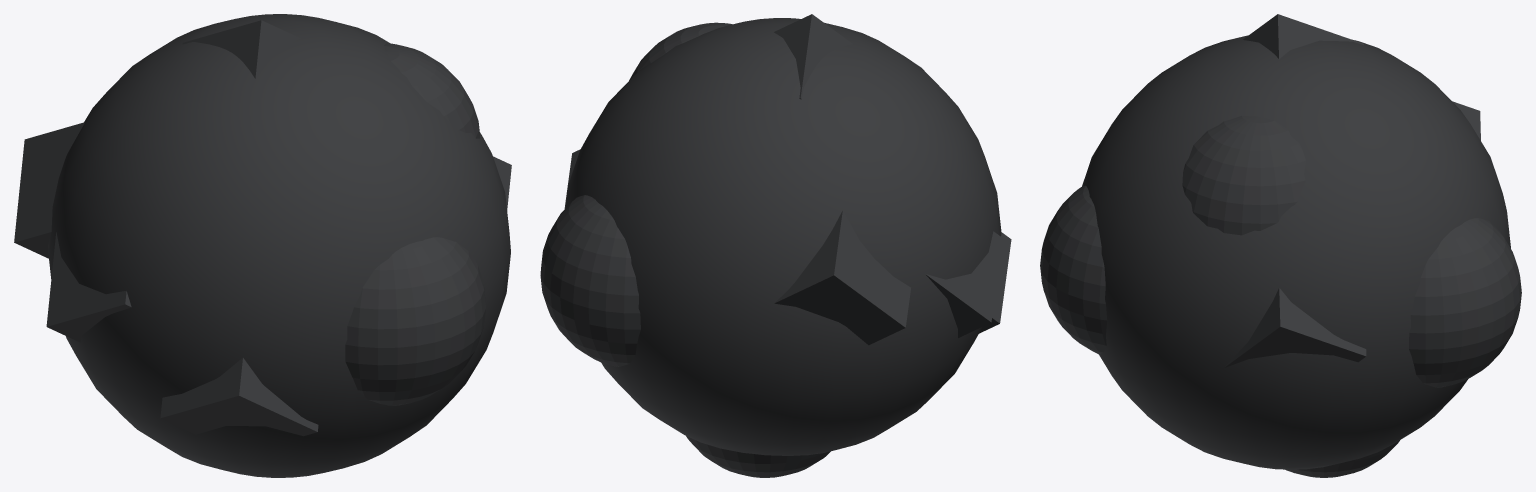
Rendered from meteorite.obj.
The picture shows the model from 3 angles, left to right: view 1: azimuth 30°, elevation 25°; view 2: azimuth 150°, elevation 25°; view 3: azimuth 270°, elevation 25°; orthographic projection. The views are drawn at different scales.
Visible parts, largest first — view 1: 球.003; view 2: 球.003; view 3: 球.003.
Boxes of the visible parts, x1=… form: 球.003: x1=14, y1=14, x2=511, y2=477; 球.003: x1=540, y1=14, x2=1011, y2=477; 球.003: x1=1040, y1=14, x2=1521, y2=477.
Size of the model in its own units: 9.38 by 9.25 by 9.1.
Materials: 1 (1 with a texture image).
